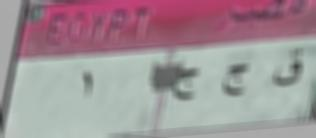1: (73, 66, 108, 104)
7aa: (214, 57, 252, 106)
jeem: (173, 61, 203, 112)
qaaf: (273, 48, 309, 92)
